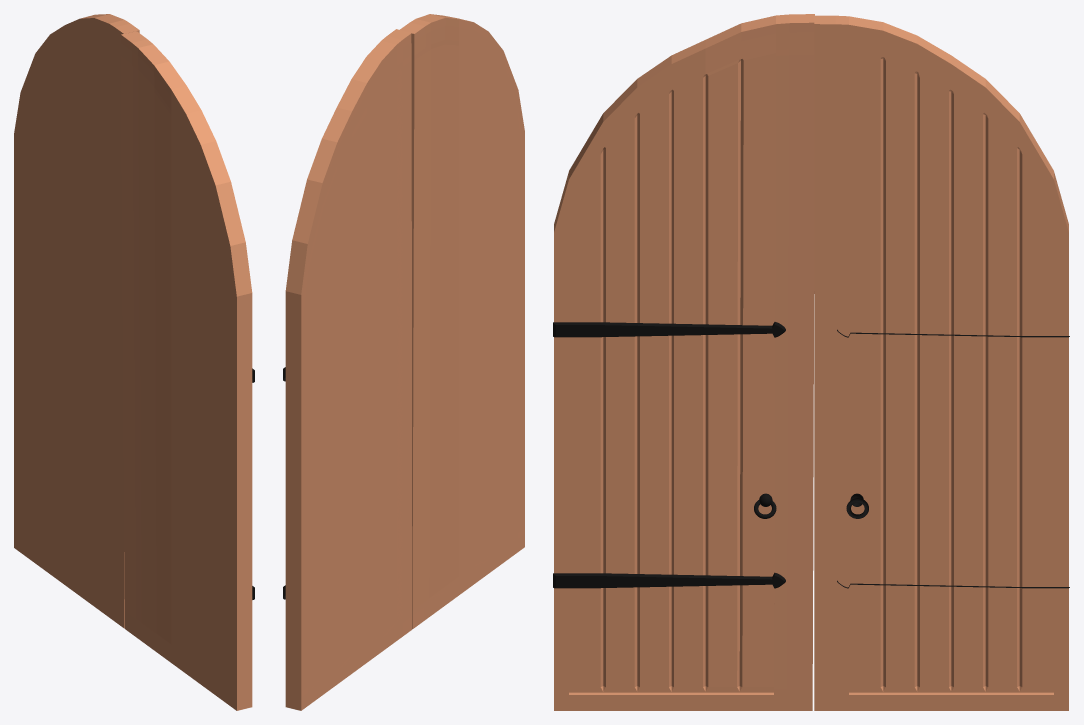
The model's file is Kerk door .fbx.
The picture shows the model from 3 angles, left to right: view 1: azimuth 30°, elevation 25°; view 2: azimuth 150°, elevation 25°; view 3: azimuth 270°, elevation 25°; orthographic projection. The views are drawn at different scales.
Parts seen in each view (by area): view 1: door, door.001; view 2: door.001, door; view 3: door, door.001.
Part boxes in pixels (<box>): door: <box>121,31,254,710</box>; door.001: <box>14,14,139,628</box>; door.001: <box>283,29,411,710</box>; door: <box>400,14,524,629</box>; door: <box>553,14,814,710</box>; door.001: <box>814,15,1069,710</box>.
Size of the model in its own units: 178 by 3162 by 2156.
